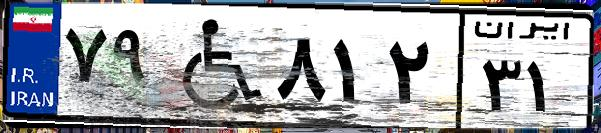1: (330, 28, 385, 110), (525, 38, 570, 115)
2: (385, 28, 445, 110)
3: (475, 38, 525, 113)
7: (57, 26, 110, 100)
8: (270, 28, 330, 110)
9: (110, 28, 158, 98)
ژ (معلولین و جانبازان): (158, 12, 270, 120)
